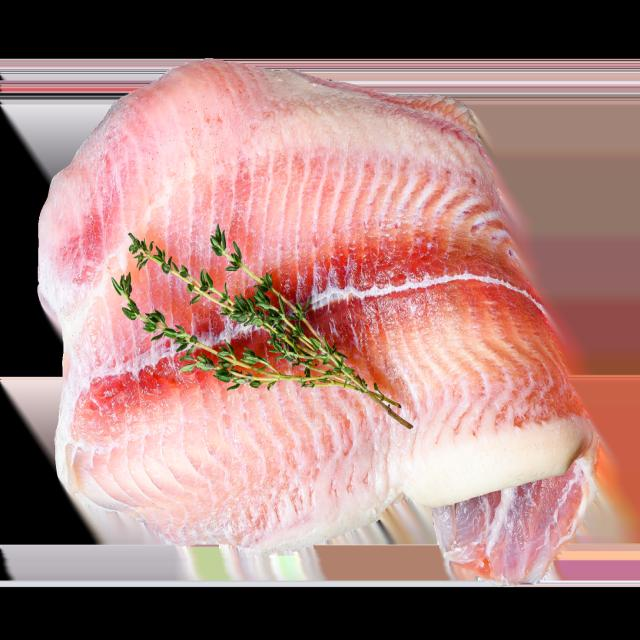Catfish: (32, 44, 610, 598)
Thyme: (92, 212, 417, 439)
